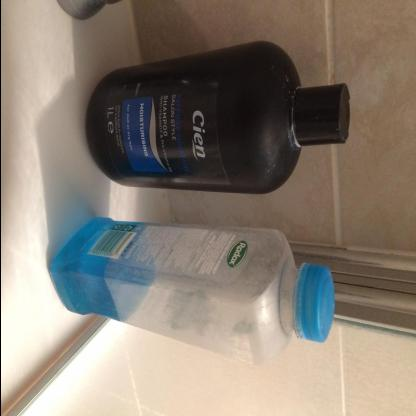plastik: (48, 214, 334, 368), (84, 40, 350, 198)
